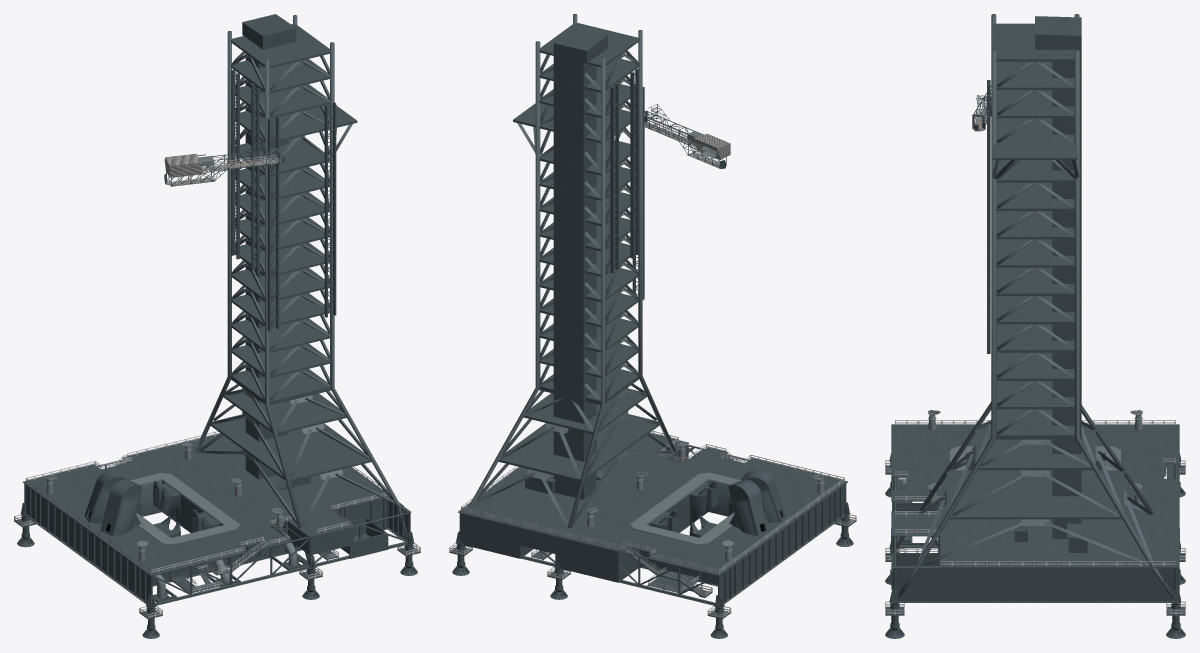
3 views of the same model, side by side, from view 1: azimuth 30°, elevation 25°; view 2: azimuth 150°, elevation 25°; view 3: azimuth 270°, elevation 25° (orthographic). The views are drawn at different scales.
Parts seen in each view (by area): view 1: base, tower; view 2: base, tower; view 3: base, tower.
Part boxes in pixels (x1,y1,x2,y2): base: (14,16,420,638); tower: (202,14,371,481); base: (449,15,856,638); tower: (498,14,719,481); base: (885,15,1185,638); tower: (943,14,1127,525).
Bounding box in the file's own units: 14.27 × 25.5 × 12.14.
Materials: 2 (2 with a texture image).
